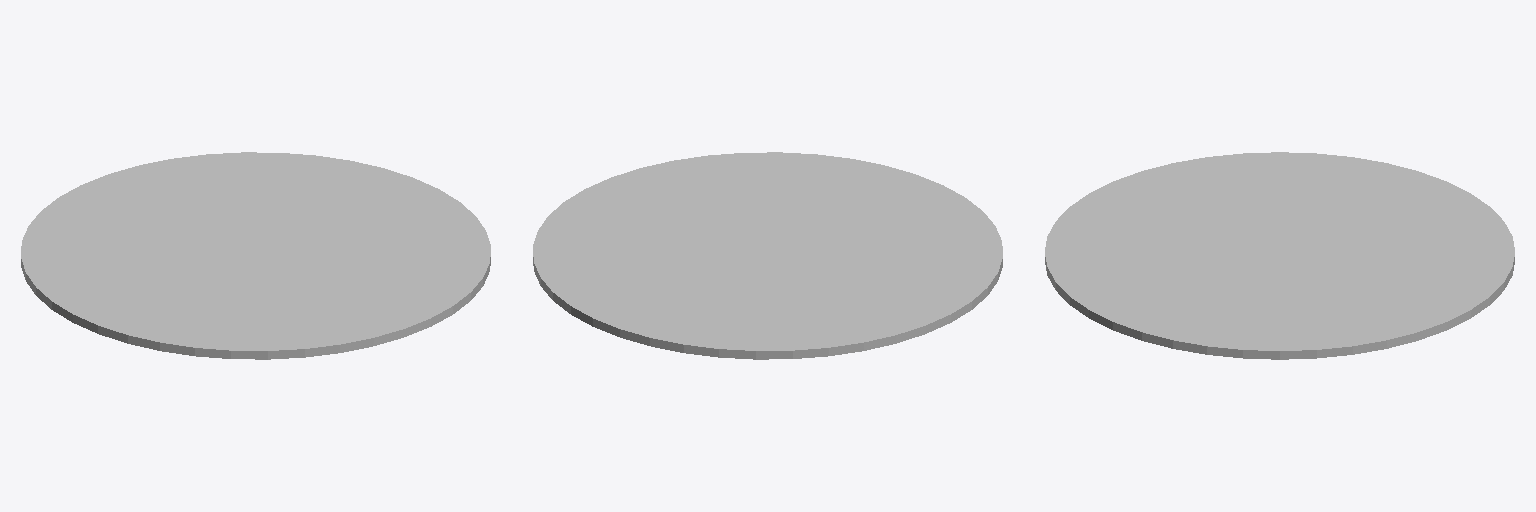
Rendered from floor_rotating.OBJ.
3 renders of one model, left to right at view 1: azimuth 30°, elevation 25°; view 2: azimuth 150°, elevation 25°; view 3: azimuth 270°, elevation 25°, orthographic.
Visible parts, largest first — view 1: Group2; view 2: Group2; view 3: Group2.
Part boxes in pixels (x1,y1,x2,y2): Group2: (21,152,490,359); Group2: (533,152,1002,359); Group2: (1045,152,1514,359).
Bounding box in the file's own units: 10 × 0.2 × 10.